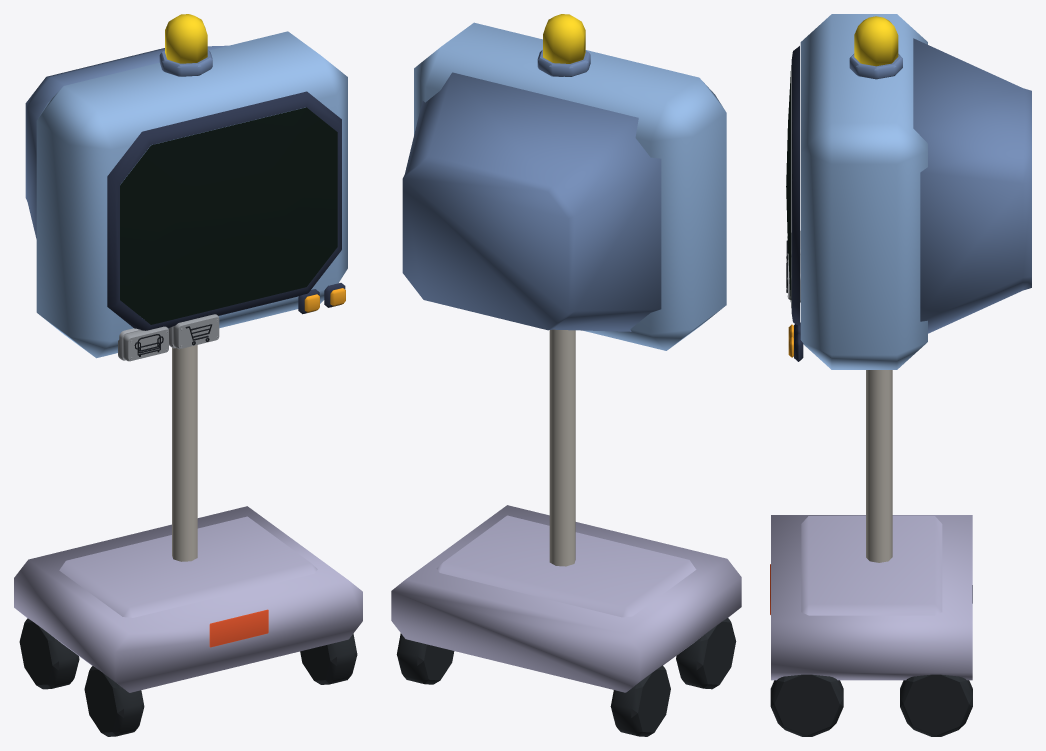
File: dispatcher_01_LOD2.fbx
3 renders of one model, left to right at view 1: azimuth 30°, elevation 25°; view 2: azimuth 150°, elevation 25°; view 3: azimuth 270°, elevation 25°, orthographic.
Visible parts, largest first — view 1: dispatcher_01_LOD2_Body, dispatcher_01_LOD2_Screen, Button_Deliveries.002, Button_Shop.002; view 2: dispatcher_01_LOD2_Body; view 3: dispatcher_01_LOD2_Body, dispatcher_01_LOD2_Screen.
Part boxes in pixels (<box>): dispatcher_01_LOD2_Body: <box>14,14,362,736</box>; dispatcher_01_LOD2_Screen: <box>120,107,337,324</box>; Button_Deliveries.002: <box>118,326,168,361</box>; Button_Shop.002: <box>168,314,219,349</box>; dispatcher_01_LOD2_Body: <box>391,14,741,736</box>; dispatcher_01_LOD2_Body: <box>770,14,1031,736</box>; dispatcher_01_LOD2_Screen: <box>786,65,791,307</box>.
Size of the model in its own units: 1.08 by 2.46 by 0.883.
